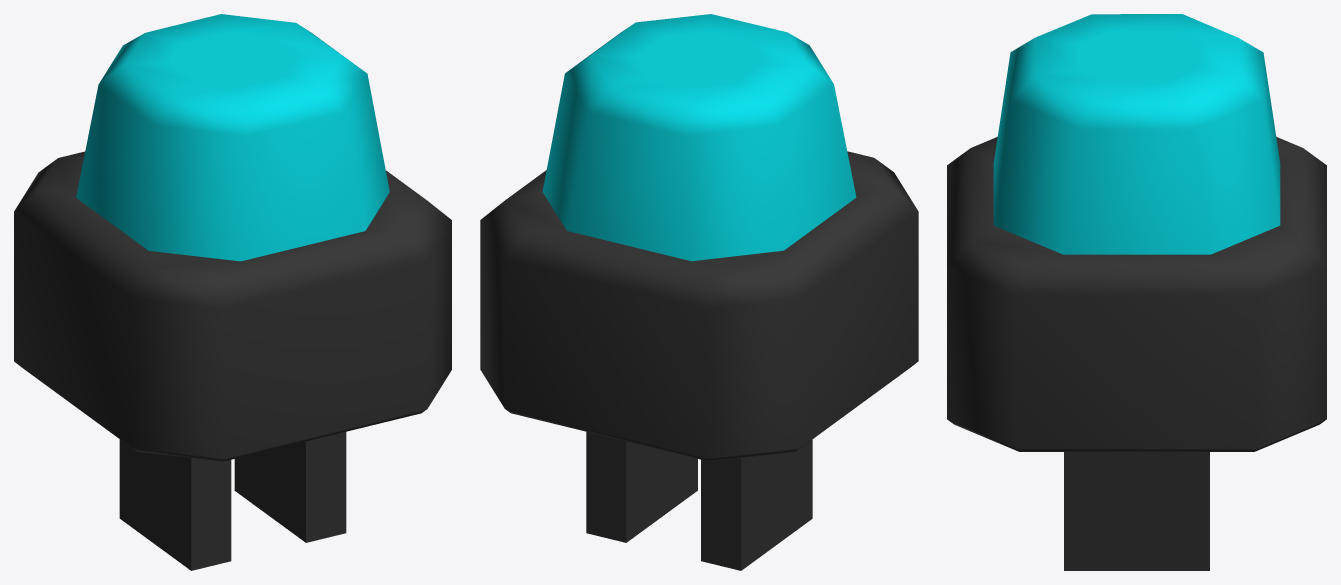
File: AugmentBlockout.fbx
The picture shows the model from 3 angles, left to right: view 1: azimuth 30°, elevation 25°; view 2: azimuth 150°, elevation 25°; view 3: azimuth 270°, elevation 25°; orthographic projection. The views are drawn at different scales.
Visible parts, largest first — view 1: AugmentBlockout; view 2: AugmentBlockout; view 3: AugmentBlockout.
Part boxes in pixels (left/top/right/bottom): AugmentBlockout: left=14, top=14, right=451, bottom=570; AugmentBlockout: left=480, top=14, right=918, bottom=570; AugmentBlockout: left=947, top=14, right=1326, bottom=570.
Bounding box in the file's own units: 9.25 × 12.89 × 9.33.
